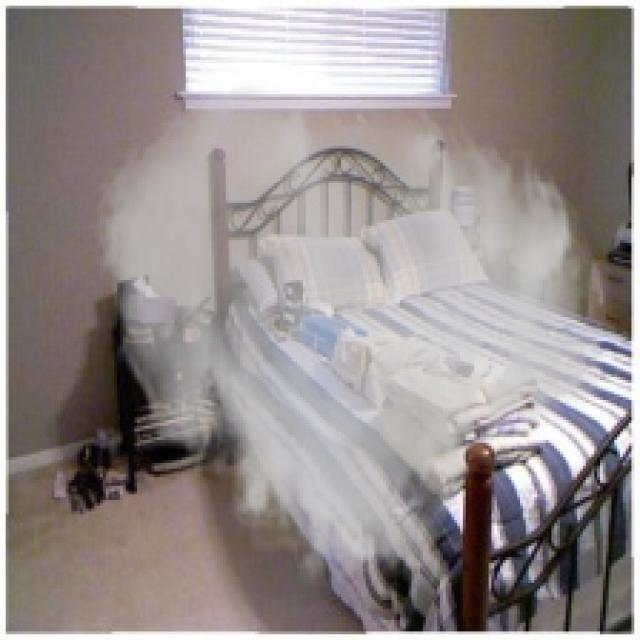smoke: (91, 80, 612, 600)
